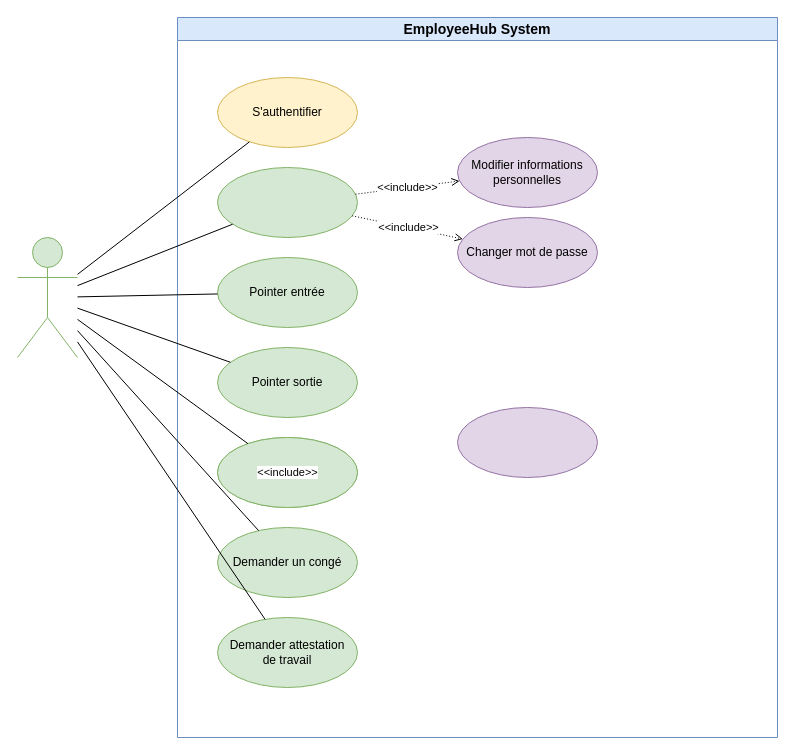
Some shapes in this 795 by 755 pixel diagram are drawn without their labels. Each missing label, with the box of its shape:
Consulter son profil: (216, 166, 358, 238)
Employé: (16, 236, 78, 358)
Voir résumé mensuel: (456, 406, 598, 478)
Voir solde de congés: (216, 436, 358, 508)
